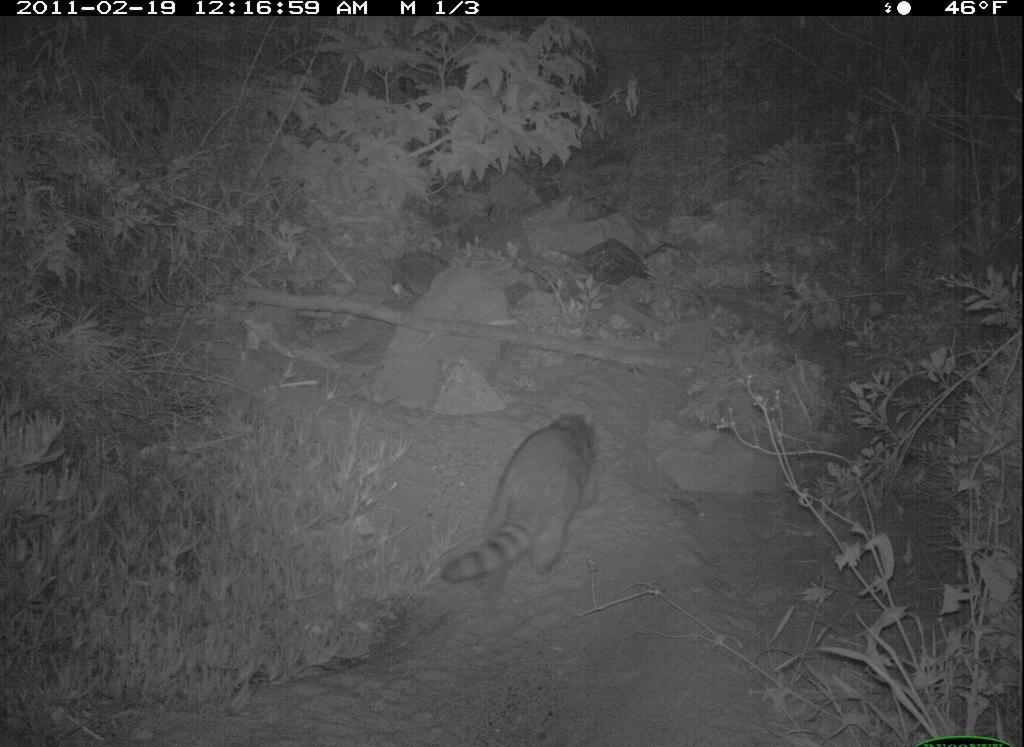raccoon: (431, 397, 611, 610)
